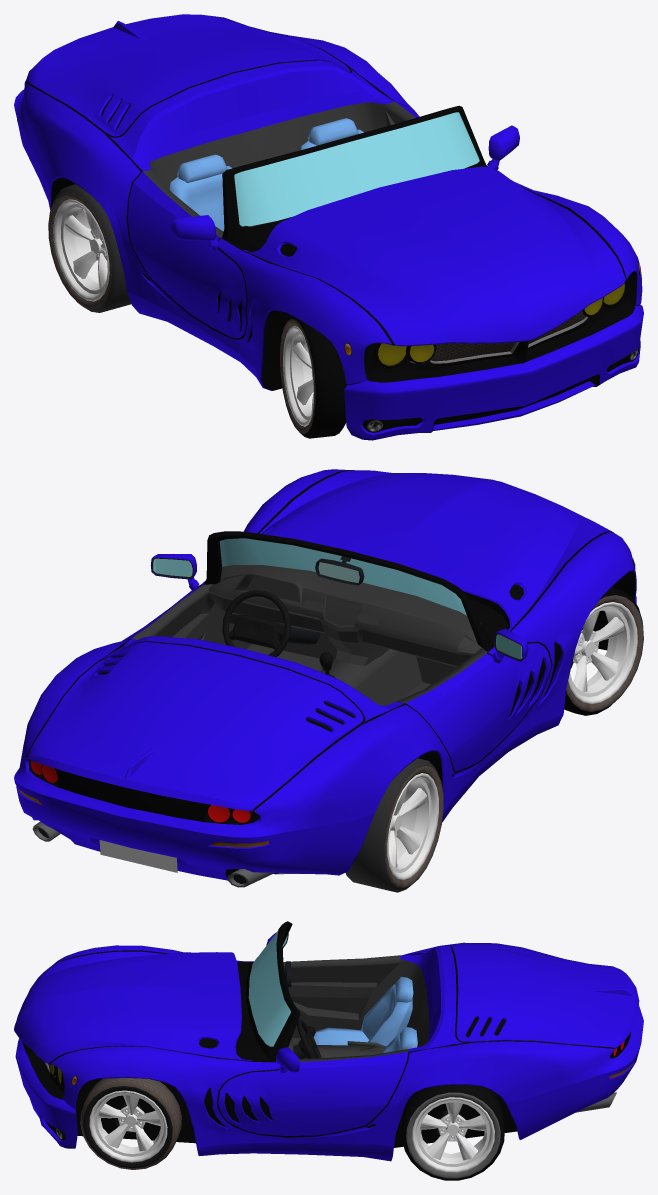
The model's file is shwcar3.gltf.
The picture shows the model from 3 angles, top to bottom: view 1: azimuth 30°, elevation 25°; view 2: azimuth 150°, elevation 25°; view 3: azimuth 270°, elevation 25°; orthographic projection. The views are drawn at different scales.
Parts seen in each view (by area): view 1: node_id523, node_id517, node_id527, node_id535, node_id501, node_id447, node_id498, node_id494, node_id505, node_id531, node_id503, node_id521 (+3 smaller); view 2: node_id523, node_id535, node_id517, node_id527, node_id494, node_id501, node_id505, node_id449, node_id496, node_id503, node_id458, node_id537 (+2 smaller); view 3: node_id523, node_id517, node_id535, node_id487, node_id447, node_id480, node_id527, node_id491, node_id484, node_id489, node_id482, node_id449 (+1 smaller).
Boxes of the visible parts, left/top/right/bottom form: node_id523: left=14, top=14, right=643, bottom=440; node_id517: left=25, top=27, right=640, bottom=432; node_id527: left=234, top=112, right=479, bottom=226; node_id535: left=143, top=102, right=415, bottom=237; node_id501: left=53, top=199, right=109, bottom=301; node_id447: left=169, top=118, right=363, bottom=231; node_id498: left=288, top=315, right=346, bottom=438; node_id494: left=283, top=326, right=313, bottom=426; node_id505: left=54, top=184, right=131, bottom=312; node_id531: left=431, top=310, right=586, bottom=361; node_id503: left=48, top=192, right=111, bottom=308; node_id521: left=378, top=283, right=624, bottom=365; node_id523: left=14, top=469, right=636, bottom=880; node_id535: left=132, top=565, right=487, bottom=705; node_id517: left=26, top=470, right=635, bottom=877; node_id527: left=219, top=538, right=466, bottom=615; node_id494: left=568, top=602, right=637, bottom=704; node_id501: left=387, top=773, right=438, bottom=880; node_id505: left=345, top=758, right=436, bottom=892; node_id449: left=222, top=590, right=290, bottom=657; node_id496: left=566, top=595, right=643, bottom=711; node_id503: left=385, top=766, right=443, bottom=888; node_id458: left=99, top=840, right=177, bottom=872; node_id537: left=31, top=761, right=250, bottom=822; node_id523: left=14, top=942, right=643, bottom=1161; node_id517: left=22, top=921, right=630, bottom=1147; node_id535: left=255, top=955, right=429, bottom=1061; node_id487: left=412, top=1097, right=494, bottom=1172; node_id447: left=313, top=976, right=417, bottom=1053; node_id480: left=89, top=1090, right=167, bottom=1162; node_id527: left=248, top=930, right=290, bottom=1046; node_id491: left=400, top=1085, right=504, bottom=1180; node_id484: left=80, top=1078, right=181, bottom=1169; node_id489: left=406, top=1092, right=500, bottom=1178; node_id482: left=83, top=1086, right=172, bottom=1168; node_id449: left=297, top=1019, right=321, bottom=1058.
Bounding box in the file's own units: 5.65 × 3.2 × 11.14.
34 materials, 15 textured.
